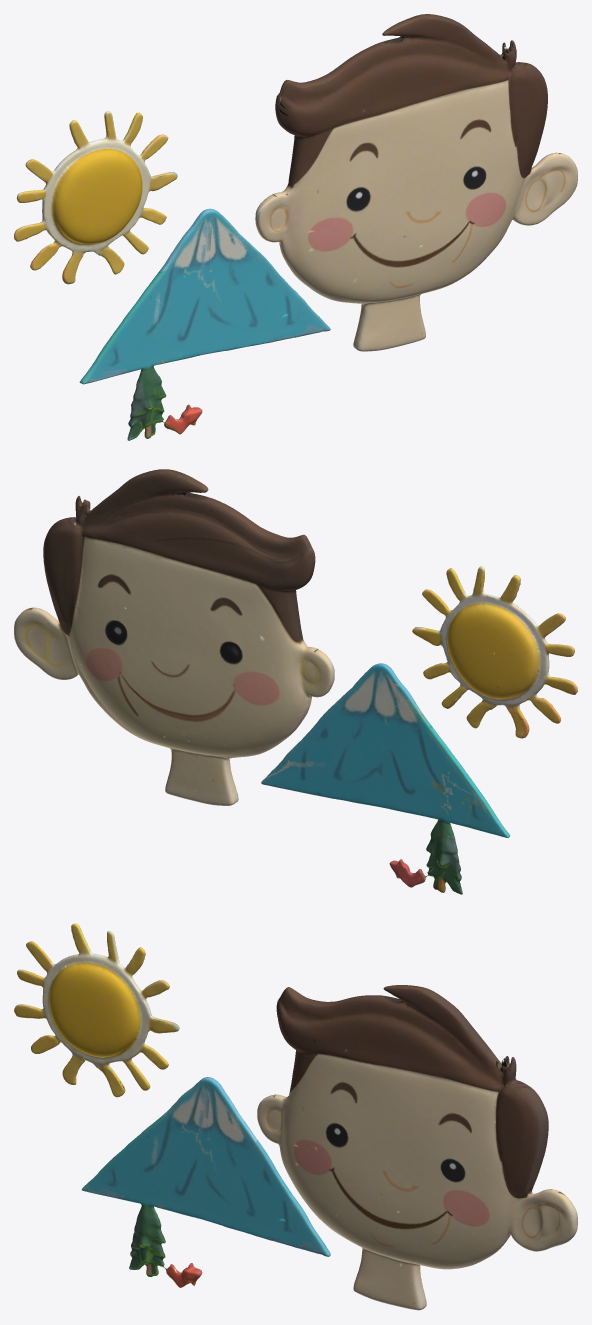
The model's file is photo.glb.
3 renders of one model, top to bottom at view 1: azimuth 30°, elevation 25°; view 2: azimuth 150°, elevation 25°; view 3: azimuth 330°, elevation 25°, orthographic.
Bounding box in the file's own units: 64987 × 39551 × 4839.
Materials: 1 (1 with a texture image).
